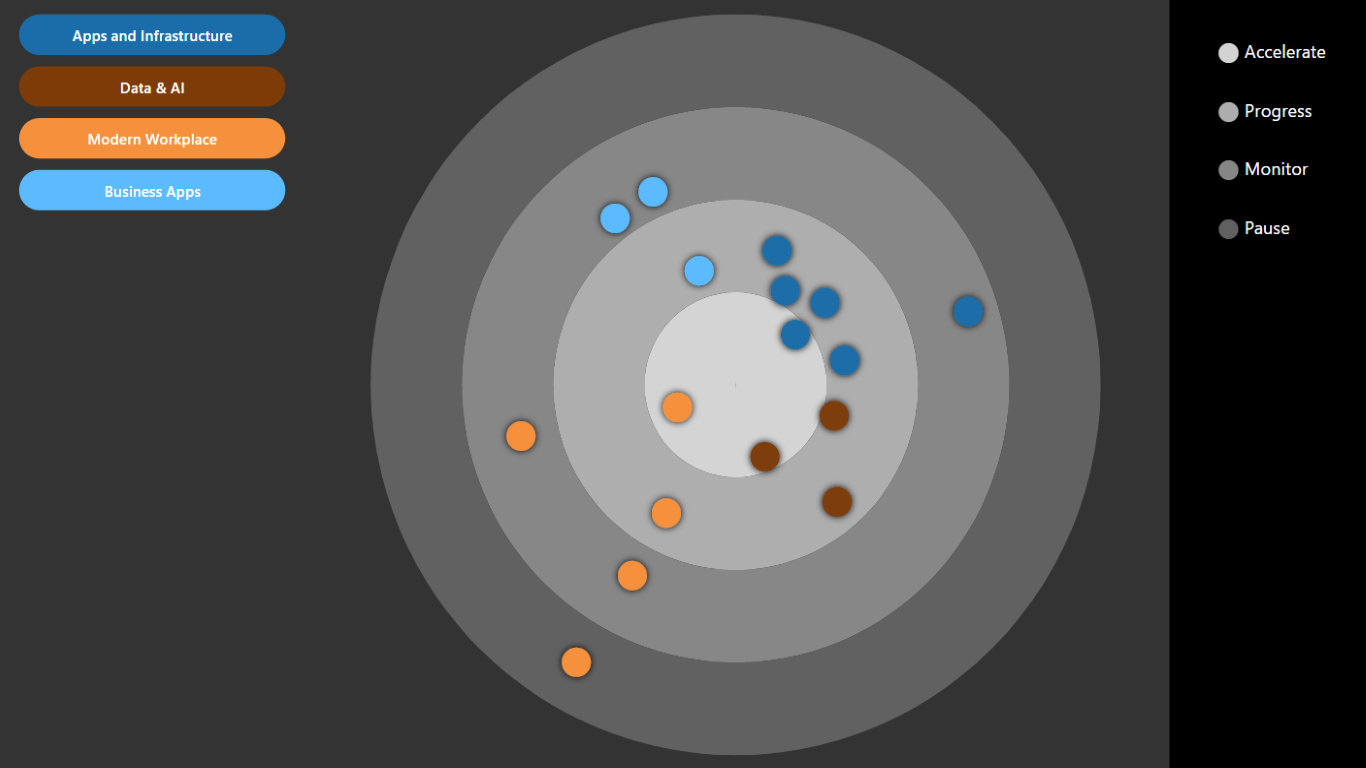

Layout of this report page (visuals, bound fields, positions):
{"tool":"powerbi","page":{"name":"Page 1","canvas":[1280,720],"ordinal":0},"visuals":[{"type":"radarCFE3A42CE23743BD8E313C30A2483BCA","fields":{"description":["points.description"],"name":["points.name"],"ring":["points.ring"],"sector":["points.sector"]},"box":[0.9,0.9,1278.2,718.3],"z":1}]}

Visuals, with their boxes in screenshot pixels (x1, y1, x2, y2), scaled from the page's 1280x720 canvas onto the 1366x768 screenshot:
radarCFE3A42CE23743BD8E313C30A2483BCA - points.description x points.name: [1, 1, 1365, 767]
